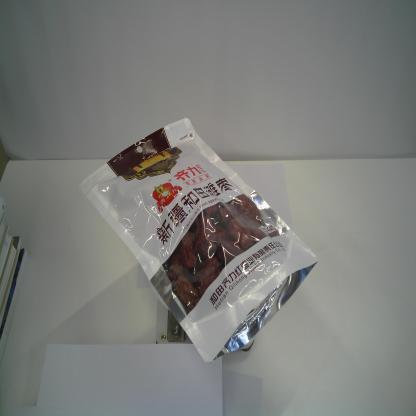Dried Food: (78, 116, 320, 366)
